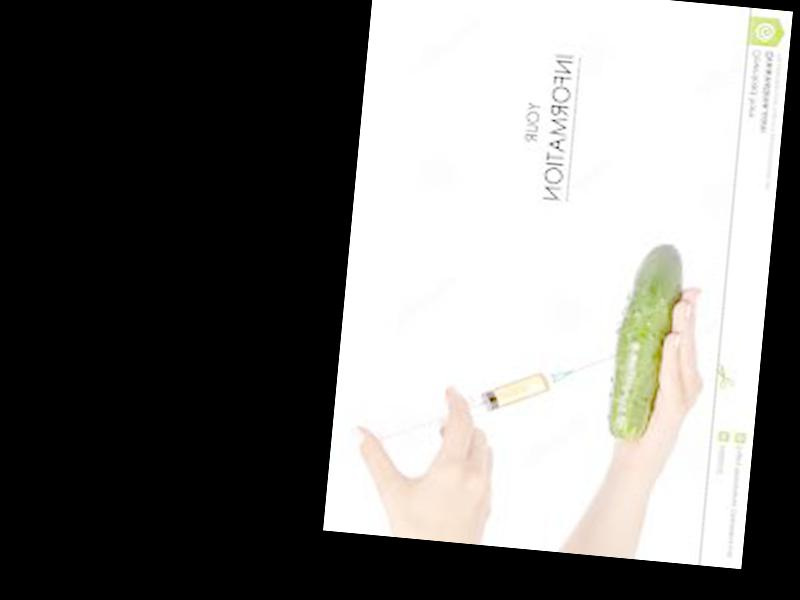Cucumber: (607, 240, 684, 444)
